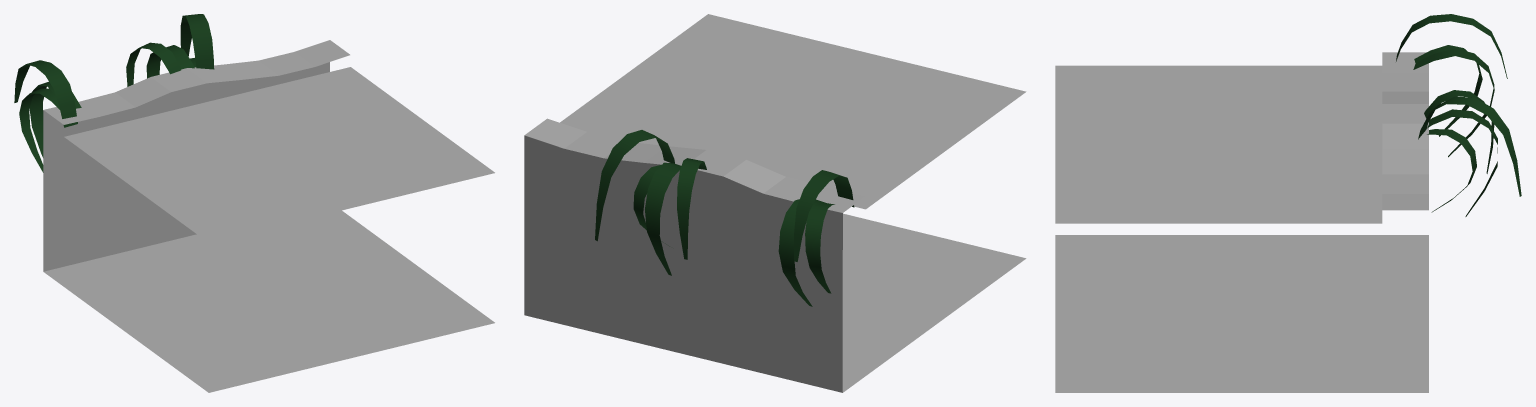
The model's file is Environment_Earth_Half_Middle_Final_001.fbx.
The picture shows the model from 3 angles, left to right: view 1: azimuth 30°, elevation 25°; view 2: azimuth 150°, elevation 25°; view 3: azimuth 270°, elevation 25°; orthographic projection. The views are drawn at different scales.
Visible parts, largest first — view 1: Environment_Earth_Half_Middle; view 2: Environment_Earth_Half_Middle; view 3: Environment_Earth_Half_Middle.
Part boxes in pixels (bbox=[...]): Environment_Earth_Half_Middle: bbox=[14, 14, 494, 392]; Environment_Earth_Half_Middle: bbox=[524, 14, 1026, 392]; Environment_Earth_Half_Middle: bbox=[1055, 14, 1521, 392].
Bounding box in the file's own units: 101 × 67.31 × 125.
